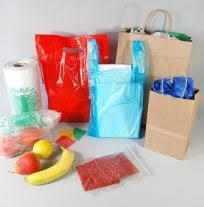Organic: (15, 140, 73, 182)
Paper bag: (146, 75, 198, 160)
Plastic bag: (35, 32, 115, 122)
Zip plastic bag: (73, 152, 155, 193)
